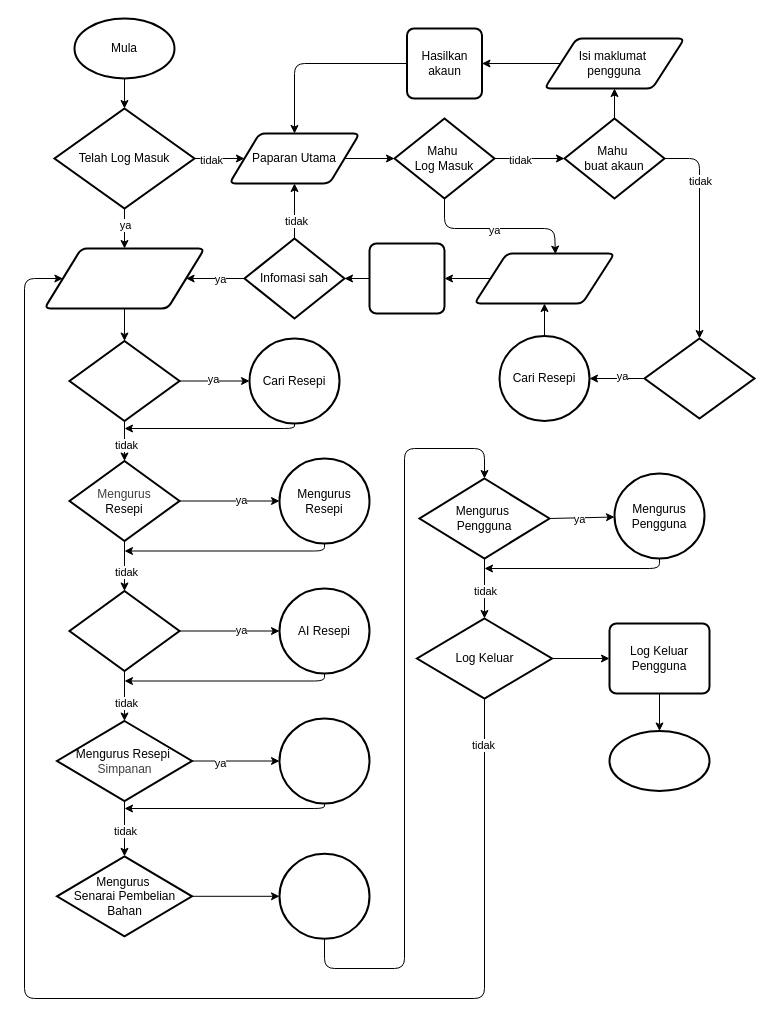
Some shapes in this 773 by 1024 pixel diagram are drawn without their labels. The shapes that lost their labels are listed below. From the top down, each one's centre as x and y in pixels, then its label:
(x=124, y=278): Paparan Pengguna
(x=406, y=278): Sahkan Info Pengguna
(x=544, y=278): Paparan Log Masuk / Daftar
(x=124, y=381): Mencari Resepi
(x=699, y=378): Mahu Mencari Resepi
(x=124, y=631): Menggunakan AI Resepi
(x=324, y=760): Resepi Simpanan
(x=659, y=761): Tamat
(x=324, y=895): Senarai Pembelian
